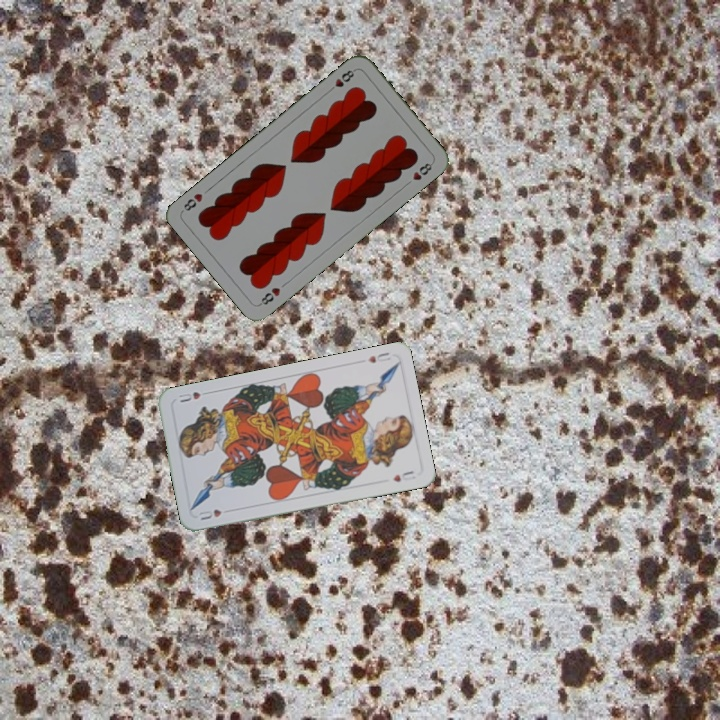H8: (324, 65, 358, 95), (255, 283, 283, 308)
HU: (194, 505, 224, 523), (364, 348, 393, 366)
